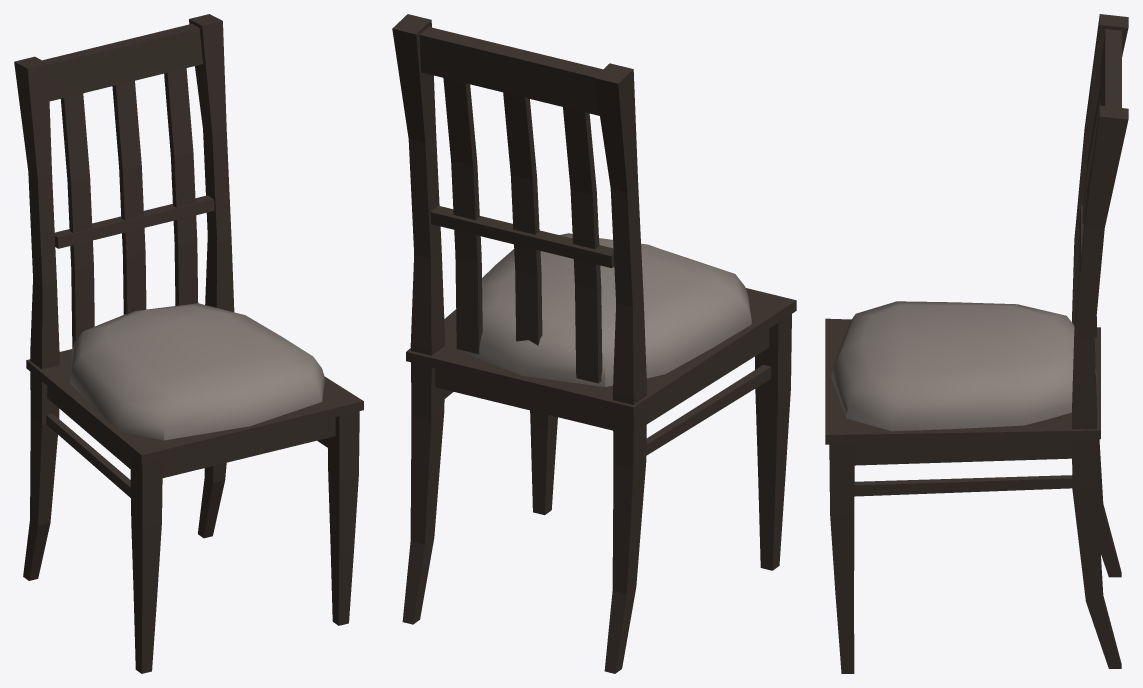
File: Chair_3.glb
3 views of the same model, side by side, from view 1: azimuth 30°, elevation 25°; view 2: azimuth 150°, elevation 25°; view 3: azimuth 270°, elevation 25° (orthographic). The views are drawn at different scales.
Parts seen in each view (by area): view 1: Chair_3; view 2: Chair_3; view 3: Chair_3.
Part boxes in pixels (<box>): Chair_3: <box>14,14,363,673</box>; Chair_3: <box>392,14,796,673</box>; Chair_3: <box>825,14,1128,673</box>.
Bounding box in the file's own units: 0.3725 × 0.8284 × 0.4095.
Materials: 2 (2 with a texture image).
